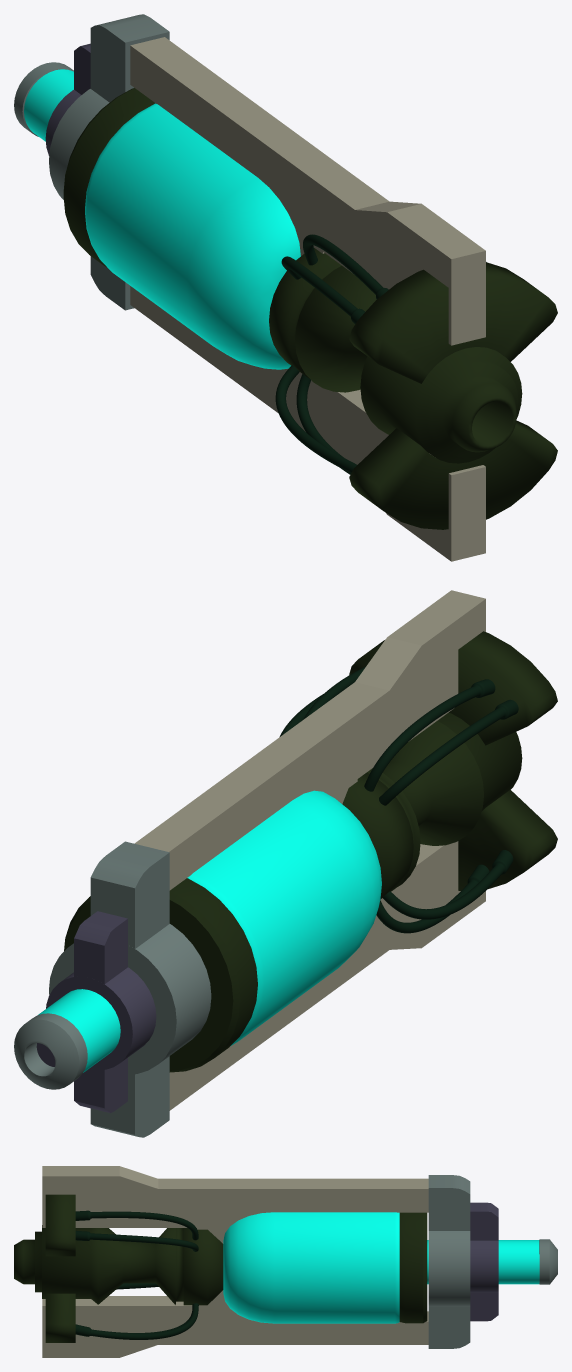
Rendered from pushka4.glb.
The picture shows the model from 3 angles, top to bottom: view 1: azimuth 30°, elevation 25°; view 2: azimuth 150°, elevation 25°; view 3: azimuth 270°, elevation 25°; orthographic projection. The views are drawn at different scales.
Parts seen in each view (by area): view 1: wires, flask, frame, holder, lid; view 2: flask, frame, wires, holder, lid; view 3: frame, flask, wires, holder, lid.
Boxes of the visible parts, x1=… form: wires: x1=269, y1=234, x2=557, y2=529; flask: x1=14, y1=62, x2=300, y2=369; frame: x1=130, y1=37, x2=485, y2=561; holder: x1=49, y1=14, x2=169, y2=310; lid: x1=45, y1=43, x2=90, y2=155; flask: x1=14, y1=790, x2=381, y2=1089; frame: x1=135, y1=590, x2=485, y2=1110; wires: x1=279, y1=631, x2=557, y2=933; holder: x1=49, y1=841, x2=211, y2=1137; lid: x1=46, y1=911, x2=156, y2=1112; frame: x1=42, y1=1166, x2=428, y2=1357; flask: x1=223, y1=1212, x2=557, y2=1323; wires: x1=14, y1=1194, x2=223, y2=1342; holder: x1=428, y1=1175, x2=470, y2=1348; lid: x1=470, y1=1202, x2=498, y2=1321.
Size of the model in its own units: 0.9389 by 1.48 by 4.
